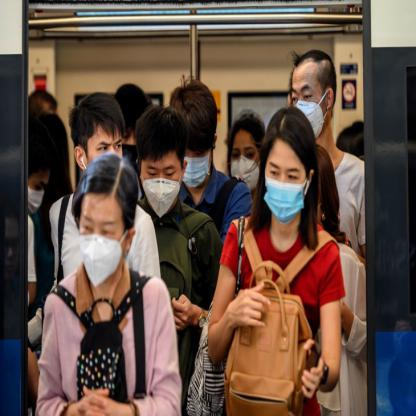Wearing_Mask: (75, 207, 122, 292), (264, 156, 304, 223), (140, 159, 180, 221), (288, 78, 324, 136), (228, 141, 260, 191), (180, 148, 210, 188), (28, 175, 46, 215)
